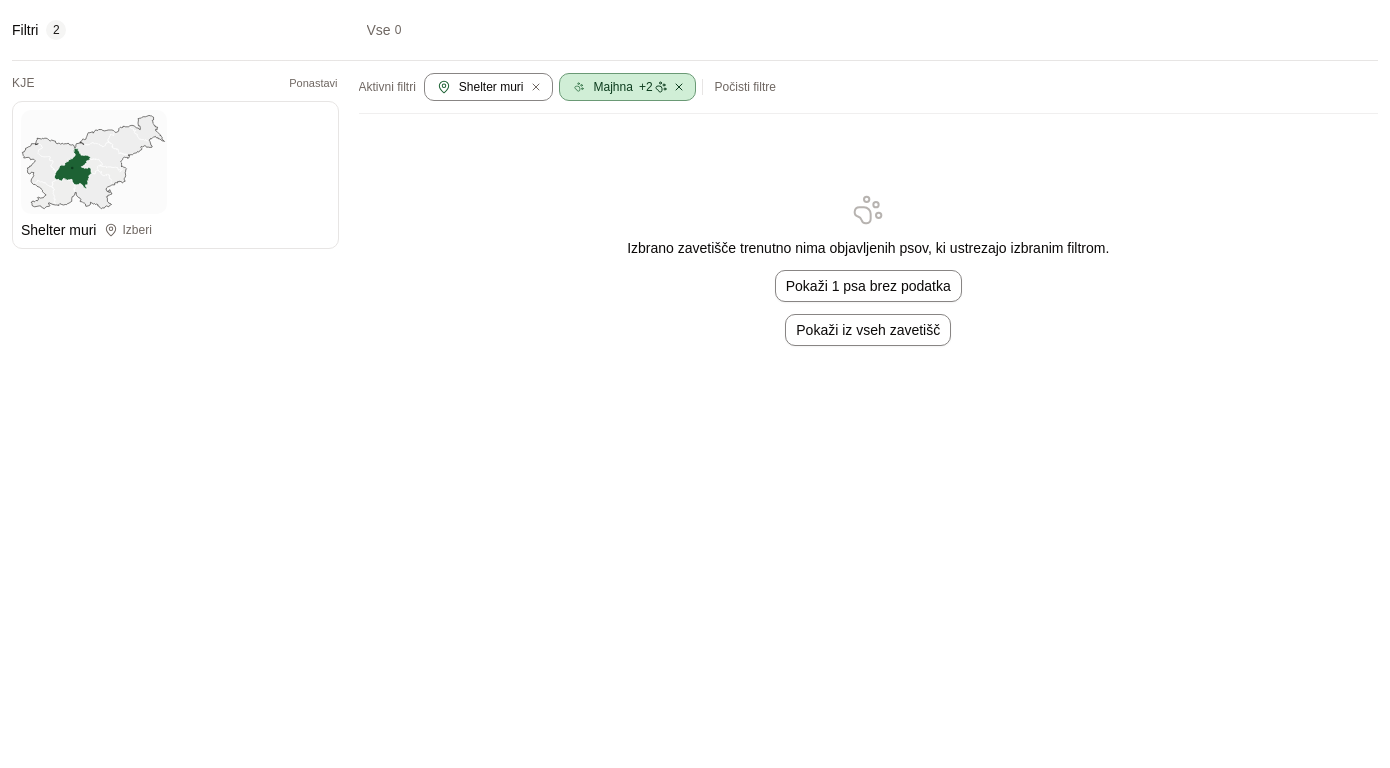
Test: animal grid empty state › qualifies shelter matches when size excludes its dogs in sl
Expected: the text "Izbrano zavetišče trenutno nima objavljenih psov, ki ustrezajo izbranim filtrom." is shown, [627, 238, 1109, 258]
Expected: the button "Pokaži 1 psa brez podatka" is shown, [775, 270, 962, 302]
Click the button "Pokaži iz vseh zavetišč": (868, 330) [785, 314, 951, 346]
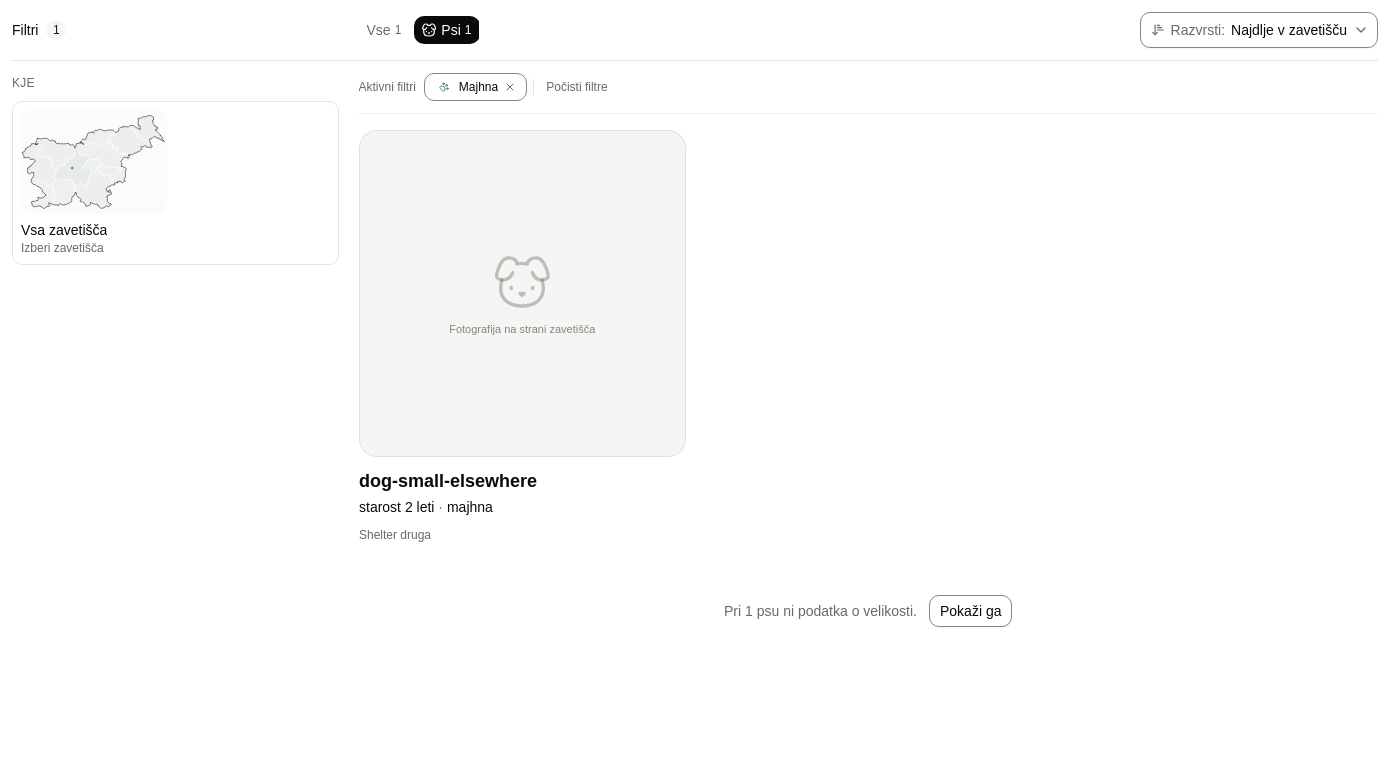
Now the element "dog-small-elsewhere" is shown, box [358, 130, 685, 554]
